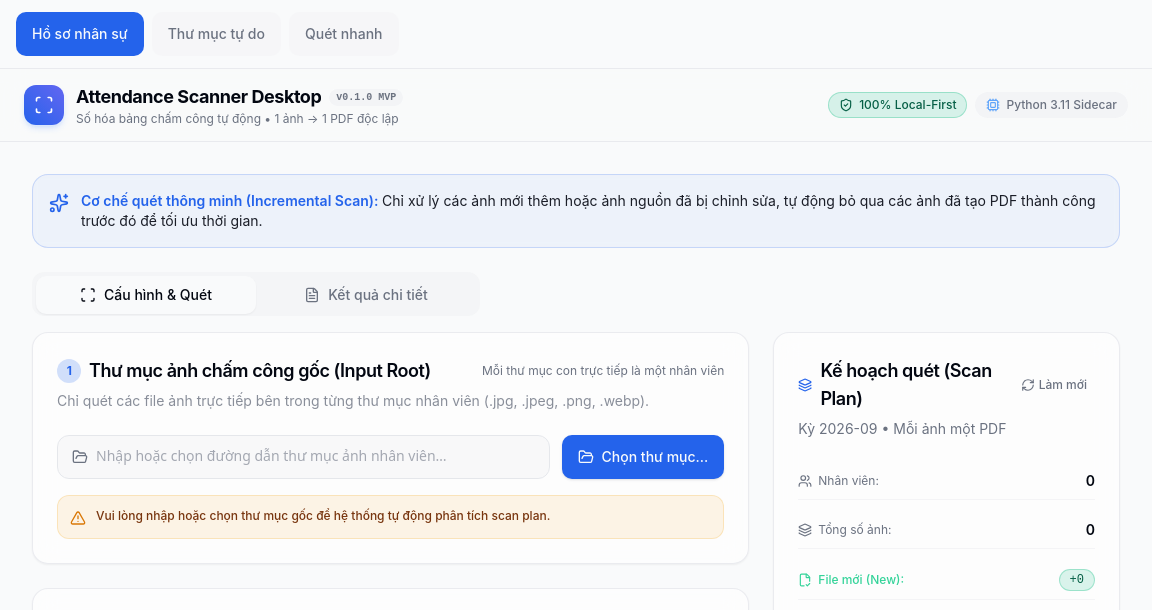
Test: App scan plan states › blocks grouped scan when plan refreshed from stale even if old plan had resolved group with same key
The width and height of the screenshot is (1152, 610).
Type "C:/Attendance Input" into the field with placeholder "Nhập hoặc chọn đường dẫn thư mục ảnh nhân viên…" at (315, 457), box [96,447,535,467]
Wait 250 ms
(page scrolled)
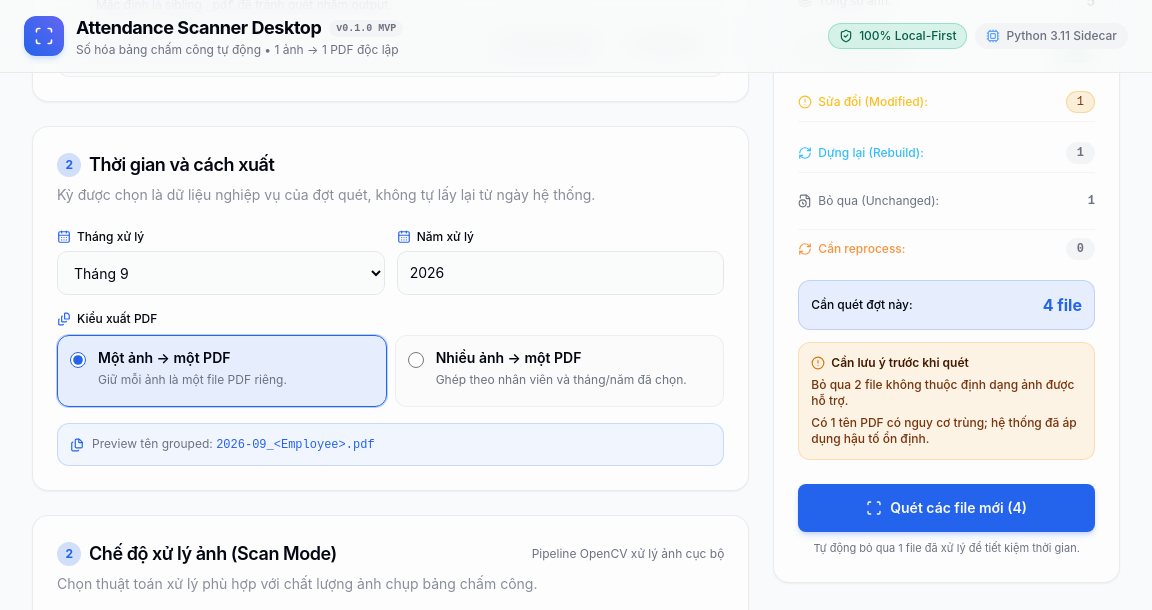
Click the radio button labelled "Nhiều ảnh → một PDF" at (416, 360), box [408,352,424,368]
(page scrolled)
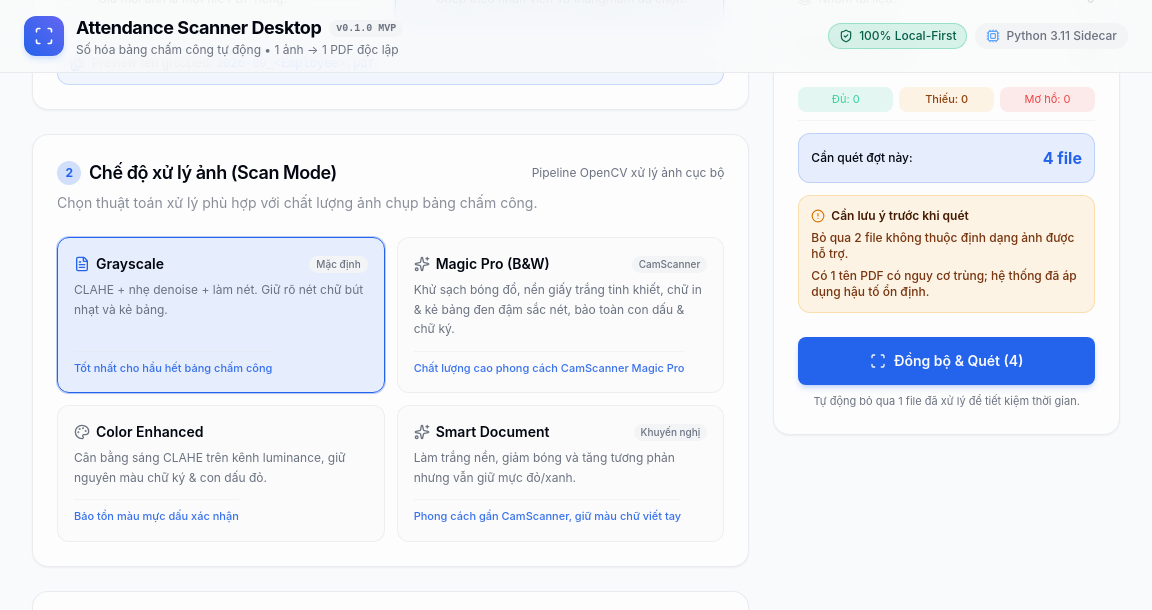
Click the button "Đồng bộ & Quét (4)" at (947, 360), box [798,336,1095,384]
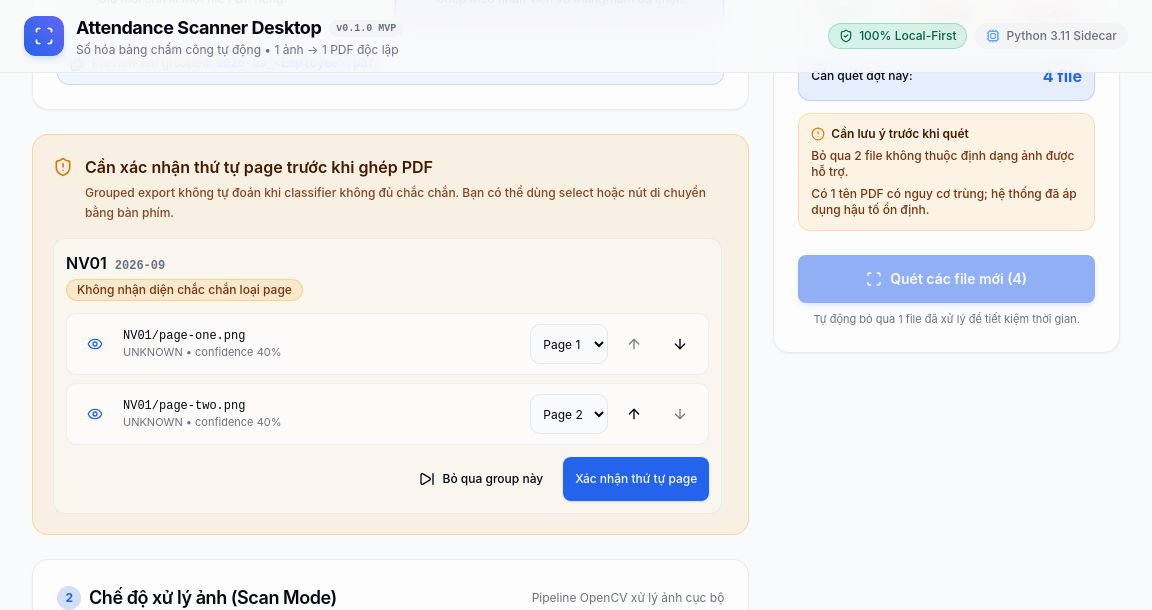
Expected: the heading "Cần xác nhận thứ tự page trước khi ghép PDF" is shown, [85,157,433,177]
Click the button "Xác nhận thứ tự page" at (636, 479), box [563,457,709,501]
(page scrolled)
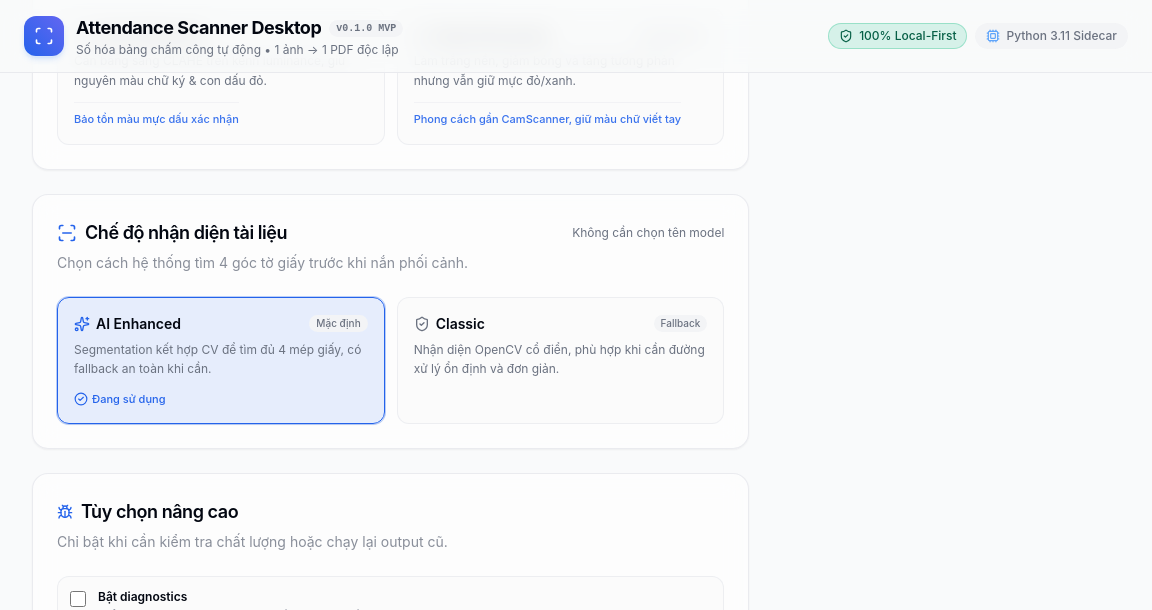
Click the button "Classic" at (561, 360), box [397,296,724,424]
(page scrolled)
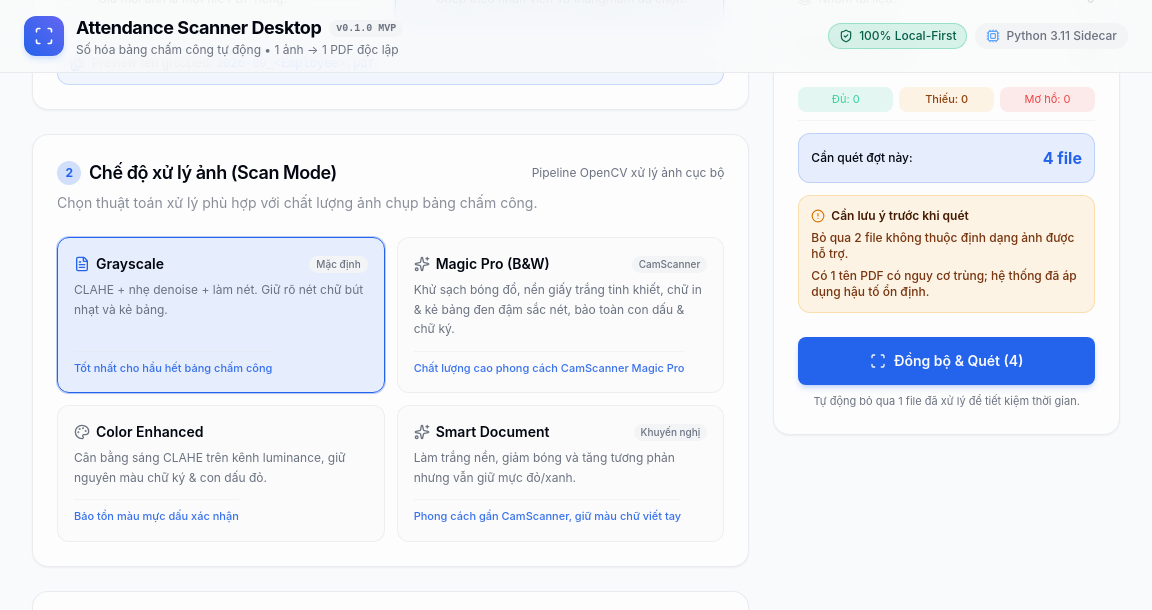
Expected: the heading "Cần xác nhận thứ tự page" is not shown
Click the button "Đồng bộ & Quét (4)" at (947, 360), box [798,336,1095,384]
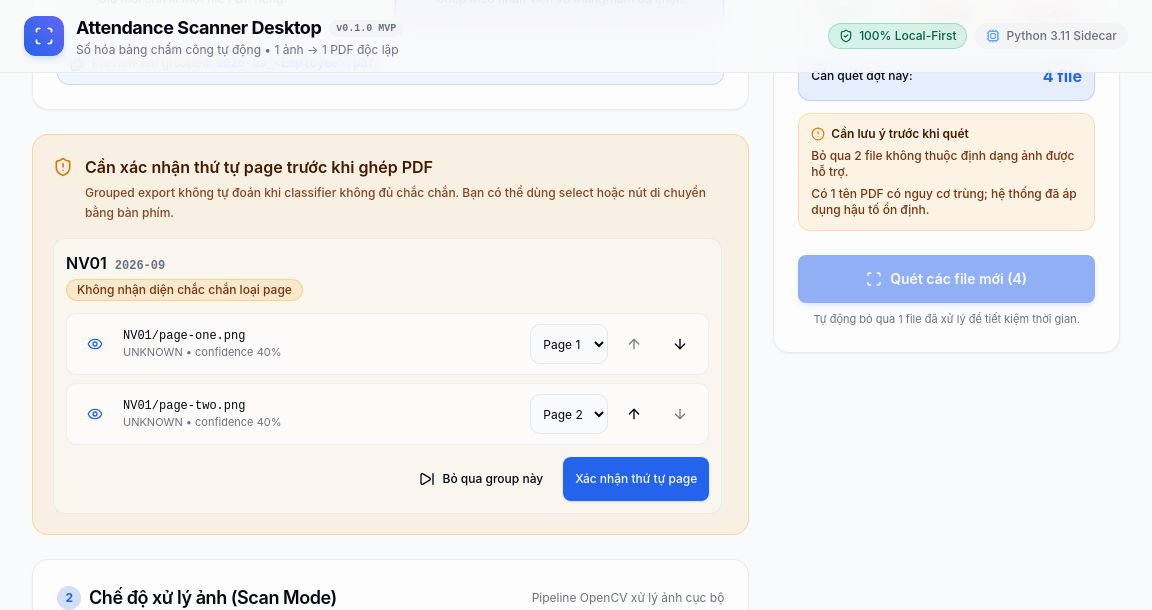
Expected: the heading "Cần xác nhận thứ tự page trước khi ghép PDF" is shown, [85,157,433,177]
